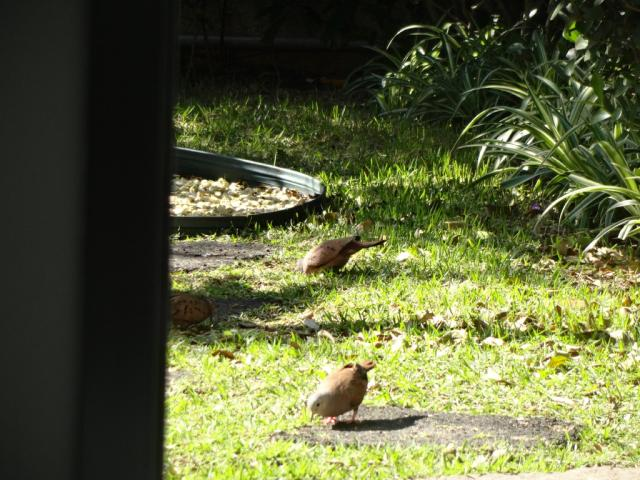Bird: (308, 355, 377, 425), (302, 234, 394, 280), (149, 287, 229, 336)
